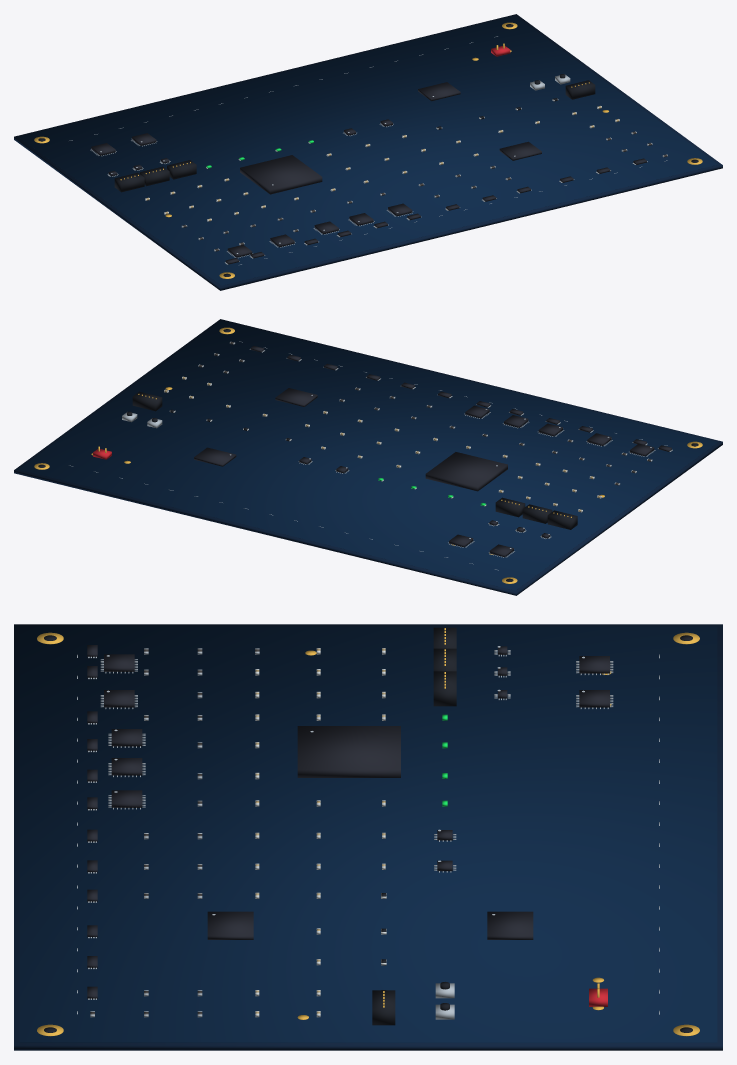
The model's file is 121_L104_AssembledReference.fbx.
3 views of the same model, one above another, from view 1: azimuth 30°, elevation 25°; view 2: azimuth 150°, elevation 25°; view 3: azimuth 270°, elevation 25° (orthographic). The views are drawn at different scales.
Visible parts, largest first — view 1: L104_AssembledReference_mask, L104_AssembledReference_pcb, L104_AssembledReference_chip, L104_AssembledReference_black, L104_AssembledReference_silver, L104_AssembledReference_gold; view 2: L104_AssembledReference_mask, L104_AssembledReference_pcb, L104_AssembledReference_chip, L104_AssembledReference_black, L104_AssembledReference_silver, L104_AssembledReference_gold; view 3: L104_AssembledReference_mask, L104_AssembledReference_chip, L104_AssembledReference_pcb, L104_AssembledReference_black, L104_AssembledReference_silver, L104_AssembledReference_gold, L104_AssembledReference_tin.
Boxes of the visible parts, x1,y1,x2,y2 form: L104_AssembledReference_mask: [19, 16, 717, 285]; L104_AssembledReference_pcb: [14, 14, 722, 290]; L104_AssembledReference_chip: [91, 82, 646, 264]; L104_AssembledReference_black: [38, 24, 698, 276]; L104_AssembledReference_silver: [90, 74, 667, 264]; L104_AssembledReference_gold: [34, 22, 702, 278]; L104_AssembledReference_mask: [19, 321, 717, 590]; L104_AssembledReference_pcb: [14, 319, 722, 595]; L104_AssembledReference_chip: [194, 346, 671, 557]; L104_AssembledReference_black: [38, 329, 698, 581]; L104_AssembledReference_silver: [122, 341, 672, 557]; L104_AssembledReference_gold: [34, 327, 702, 583]; L104_AssembledReference_mask: [19, 626, 717, 1042]; L104_AssembledReference_chip: [87, 645, 609, 998]; L104_AssembledReference_pcb: [14, 624, 722, 1050]; L104_AssembledReference_black: [44, 627, 692, 1032]; L104_AssembledReference_silver: [88, 646, 613, 1019]; L104_AssembledReference_gold: [37, 628, 699, 1036]; L104_AssembledReference_tin: [255, 648, 386, 1017].
Bounding box in the file's own units: 0.26 × 0.00666 × 0.185.
